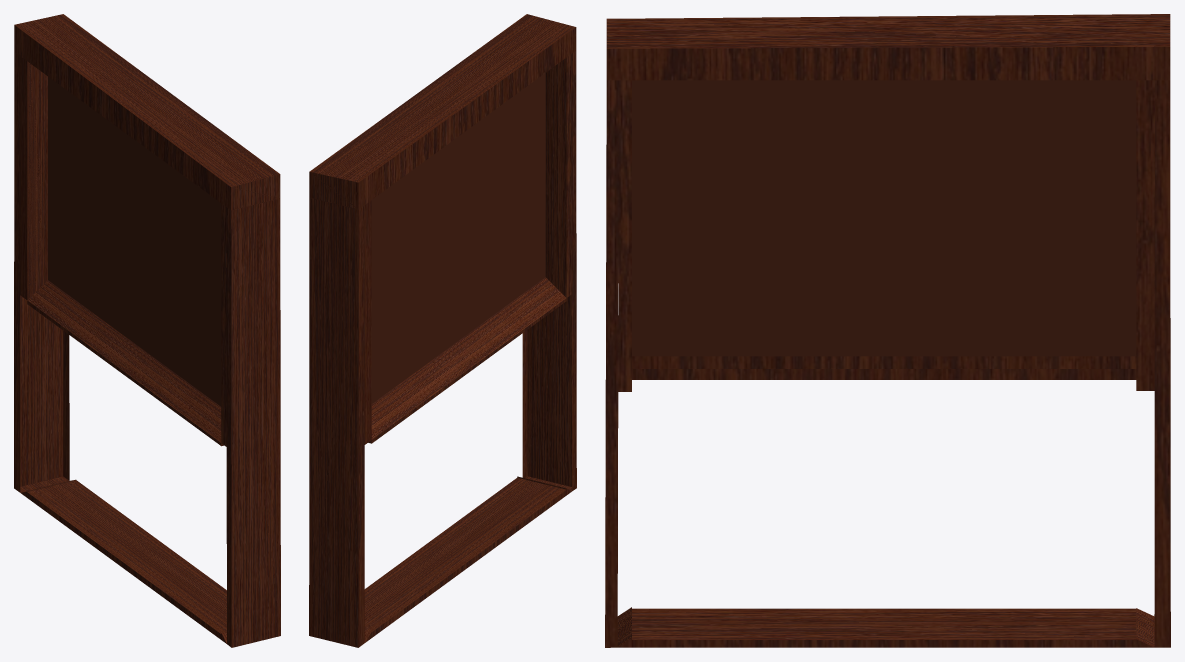
Rendered from ventana1O.fbx.
The picture shows the model from 3 angles, left to right: view 1: azimuth 30°, elevation 25°; view 2: azimuth 150°, elevation 25°; view 3: azimuth 270°, elevation 25°; orthographic projection. The views are drawn at different scales.
Visible parts, largest first — view 1: Cube; view 2: Cube; view 3: Cube.
Boxes of the visible parts, left/top/right/bottom form: Cube: left=14, top=14, right=280, bottom=647; Cube: left=309, top=14, right=576, bottom=647; Cube: left=605, top=14, right=1170, bottom=647.
Size of the model in its own units: 68.98 by 622 by 529.
